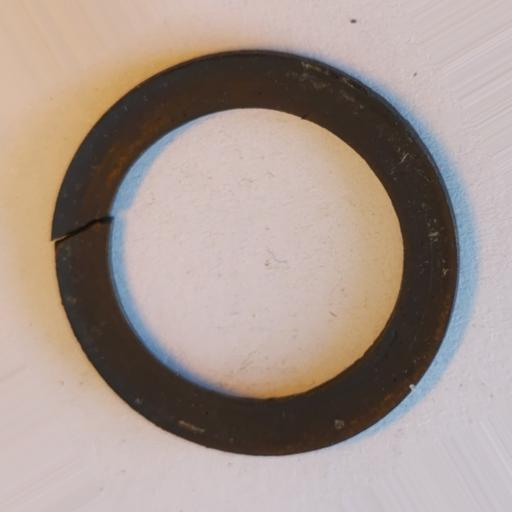defect: (50, 214, 116, 245)
